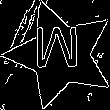M_S: (36, 29, 85, 80)
